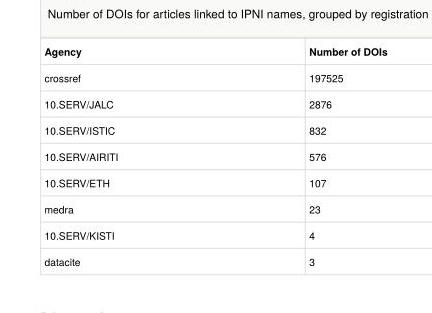table: (43, 43, 386, 267)
table column: (212, 43, 386, 267), (43, 43, 212, 267)
table column header: (43, 43, 386, 63)
table row: (43, 89, 386, 116), (43, 194, 386, 221), (43, 63, 386, 89), (43, 116, 386, 142), (43, 142, 386, 168), (43, 168, 386, 194), (43, 221, 386, 247), (43, 43, 386, 63), (43, 247, 386, 267)
